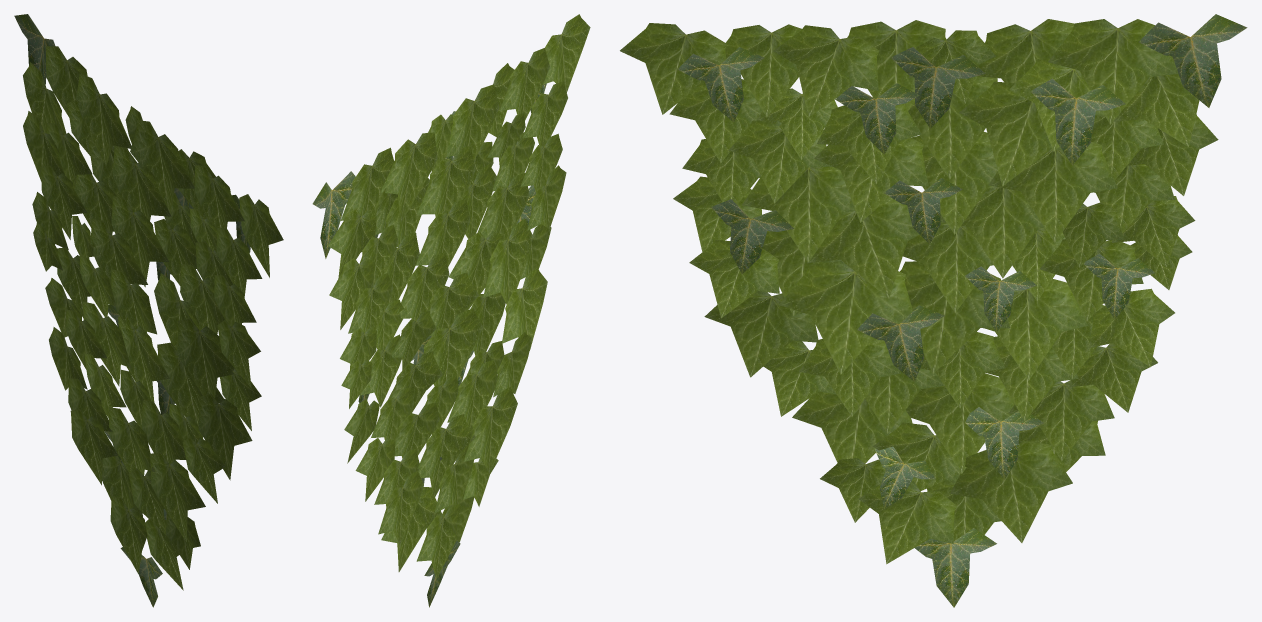
File: Vines_A.fbx
3 views of the same model, side by side, from view 1: azimuth 30°, elevation 25°; view 2: azimuth 150°, elevation 25°; view 3: azimuth 270°, elevation 25° (orthographic). The views are drawn at different scales.
Visible parts, largest first — view 1: VInes_A; view 2: VInes_A; view 3: VInes_A.
Boxes of the visible parts, bbox=[...] form: VInes_A: bbox=[14, 14, 283, 607]; VInes_A: bbox=[312, 14, 590, 607]; VInes_A: bbox=[620, 14, 1247, 607].
Size of the model in its own units: 11.62 by 183 by 177.
